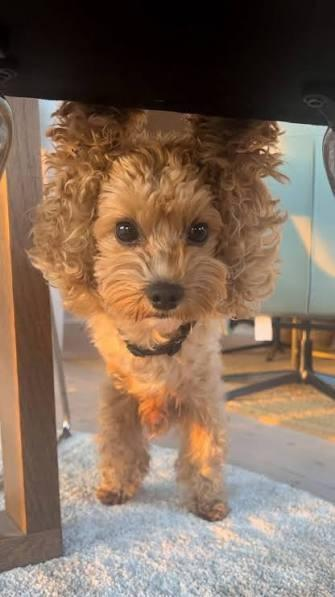puppy-dog: (23, 95, 294, 524)
